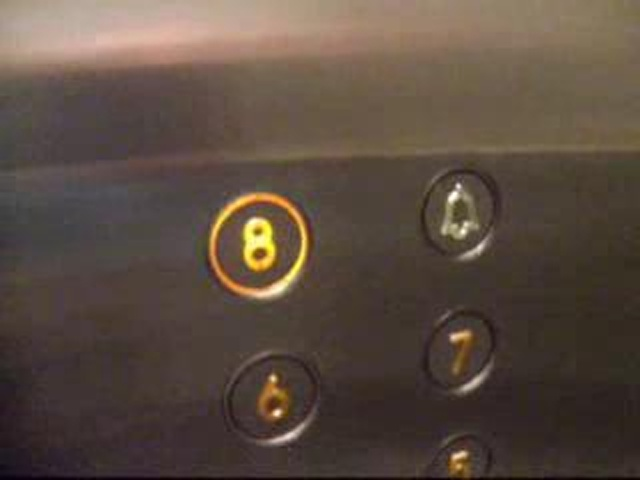6: (218, 347, 326, 457)
7: (419, 302, 501, 398)
8: (205, 191, 314, 306)
alarm: (421, 167, 501, 266)
